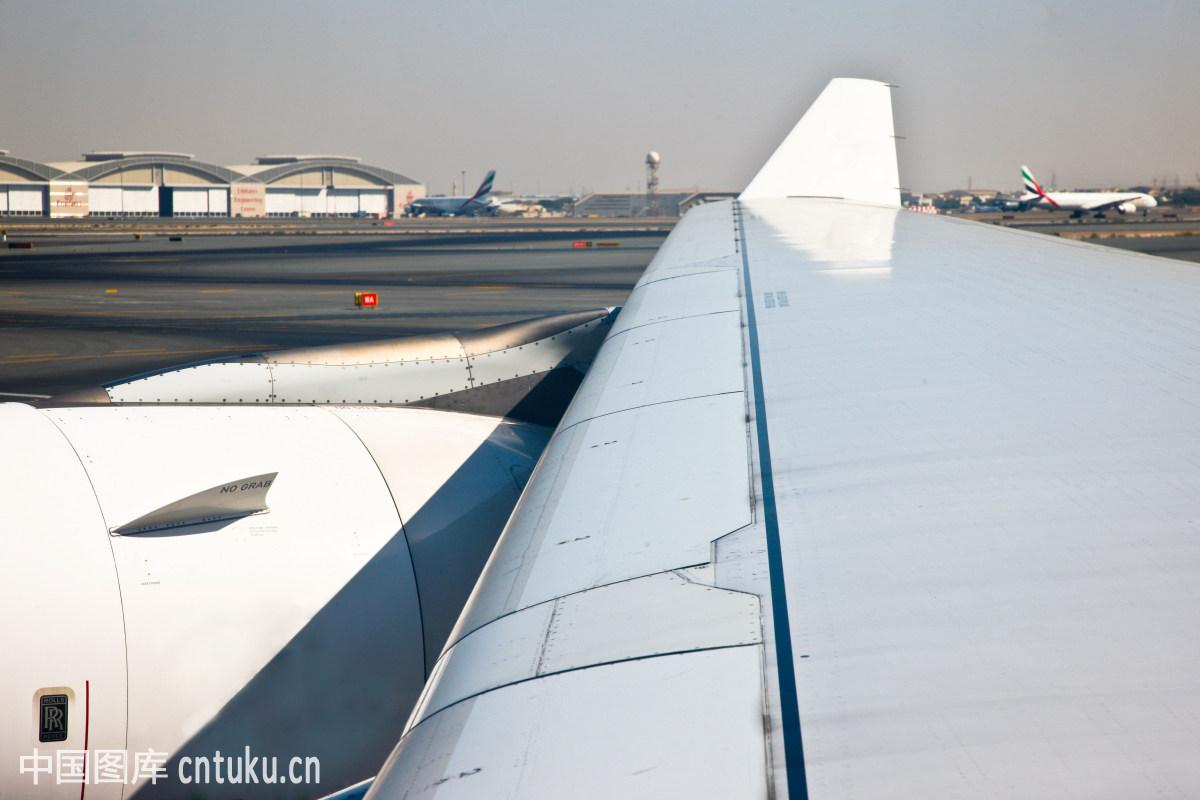airplane: (997, 164, 1179, 214), (396, 167, 550, 225)
